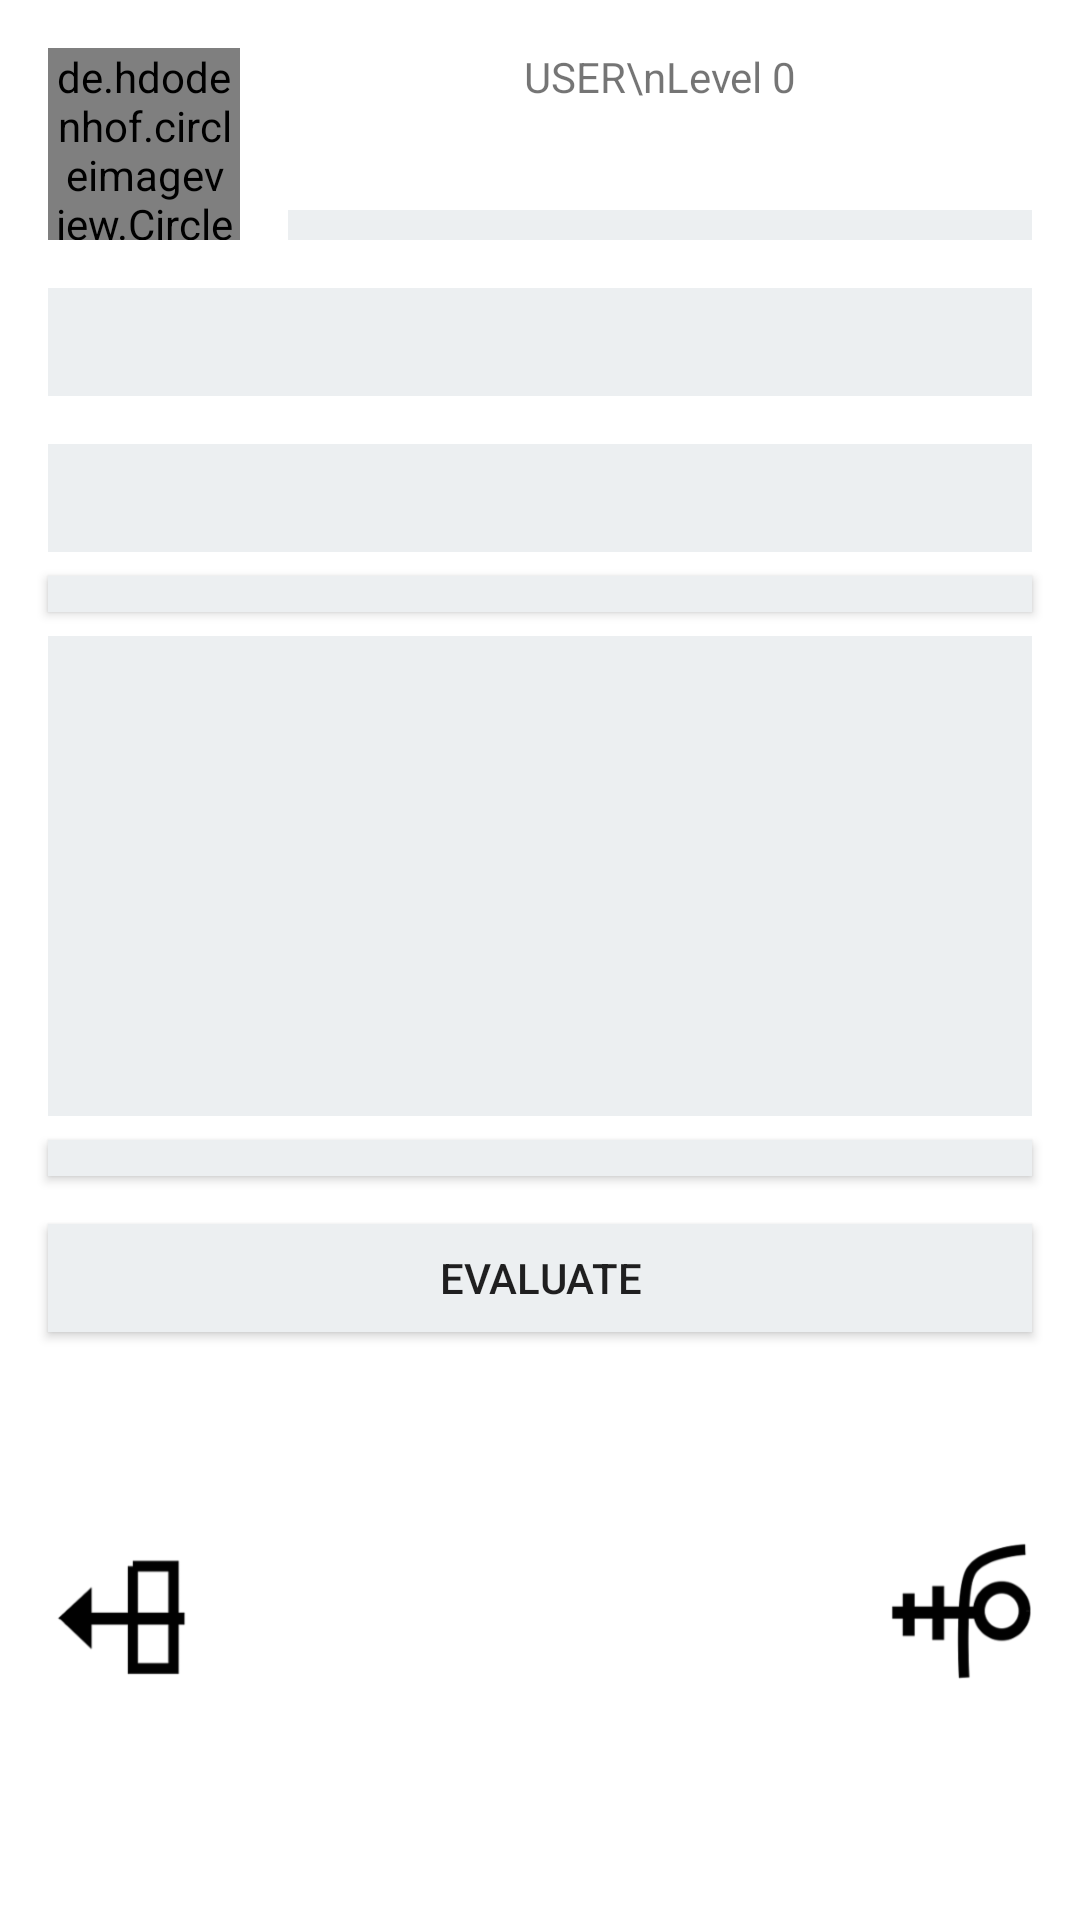

Icon click points for this 1080w x 1920h phone screenshot, format point (x, y):
back in: point (121, 1617)
